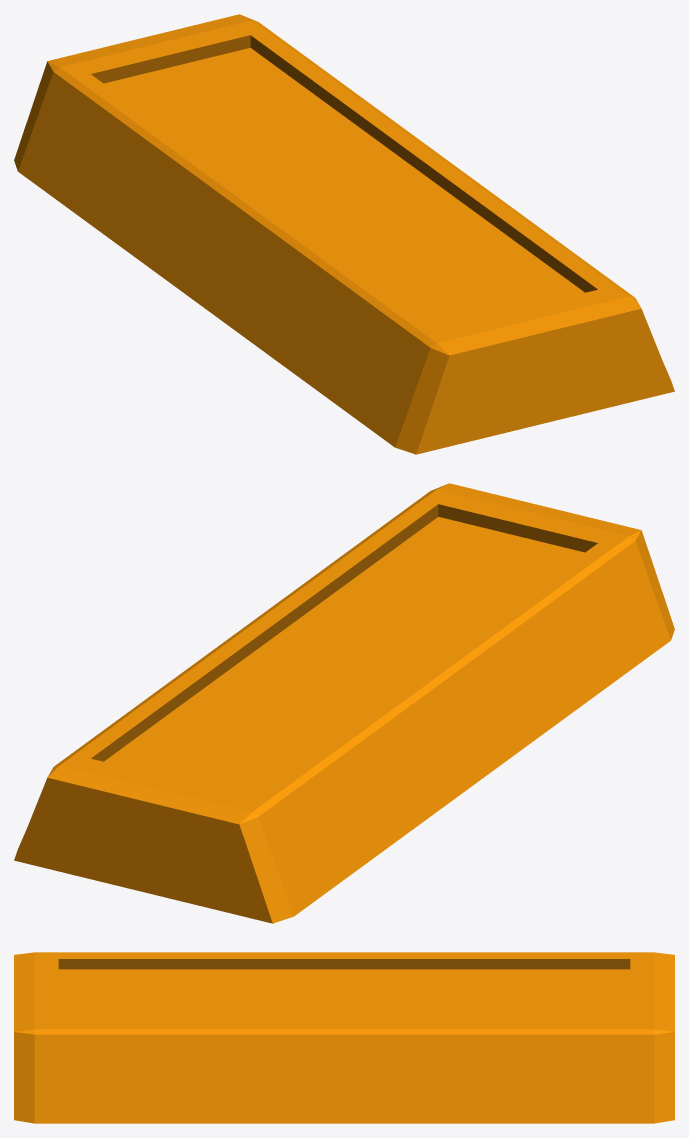
The model's file is GoldBar_01.glb.
3 renders of one model, top to bottom at view 1: azimuth 30°, elevation 25°; view 2: azimuth 150°, elevation 25°; view 3: azimuth 270°, elevation 25°, orthographic. The views are drawn at different scales.
Visible parts, largest first — view 1: GoldBar_01; view 2: GoldBar_01; view 3: GoldBar_01.
Boxes of the visible parts, bbox=[...] form: GoldBar_01: bbox=[14, 14, 674, 454]; GoldBar_01: bbox=[14, 483, 674, 923]; GoldBar_01: bbox=[14, 952, 674, 1123].
Size of what is drawn, in the model's own units: 0.1599 by 0.0538 by 0.4035.
1 material, 1 textured.
